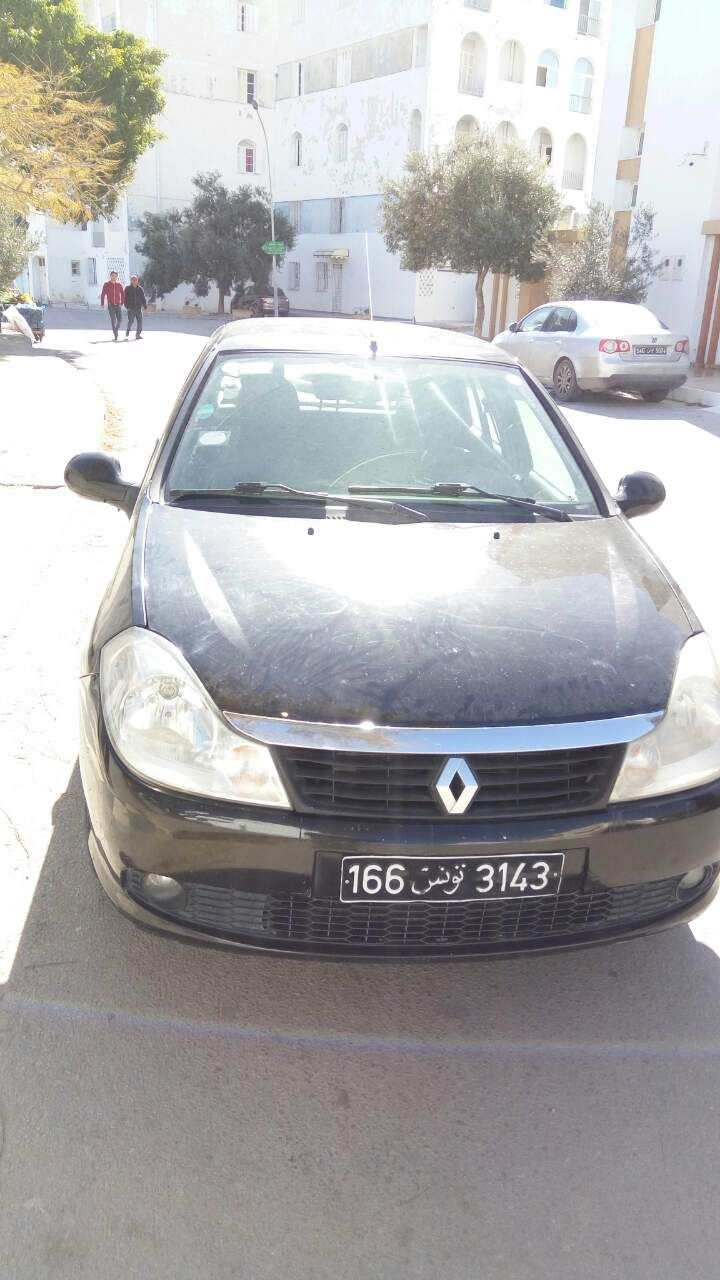LP: (340, 852, 566, 902)
